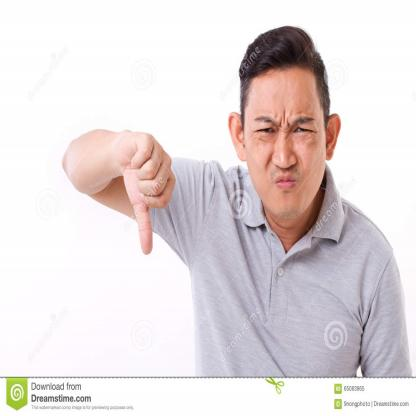Thumbs-Down: (109, 124, 179, 257)
